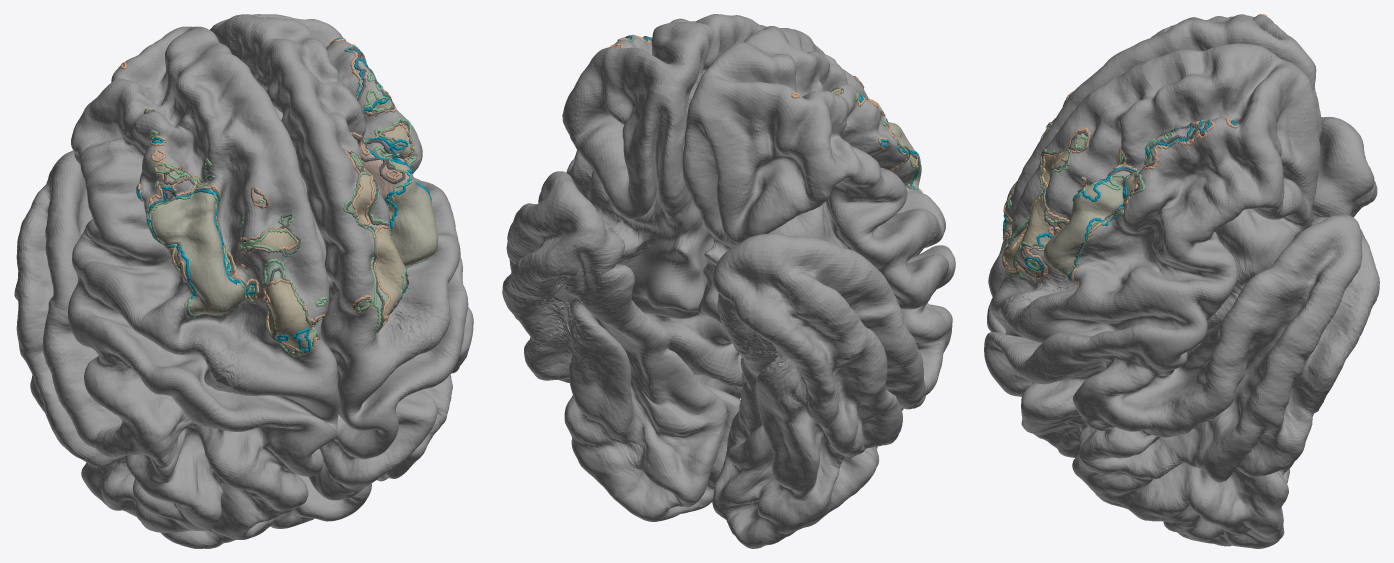
File: caudate_composite_marginal.glb
The picture shows the model from 3 angles, left to right: view 1: azimuth 30°, elevation 25°; view 2: azimuth 150°, elevation 25°; view 3: azimuth 270°, elevation 25°; orthographic projection. The views are drawn at different scales.
Visible parts, largest first — view 1: world; view 2: world; view 3: world.
Boxes of the visible parts, left/top/right/bottom form: world: left=14, top=14, right=473, bottom=548; world: left=502, top=14, right=955, bottom=548; world: left=984, top=14, right=1379, bottom=548.
Bounding box in the file's own units: 139 × 174 × 127.
